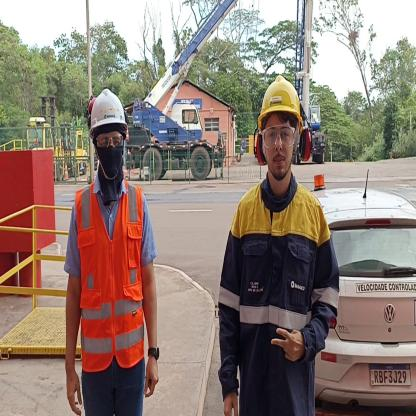Balaclava: (92, 130, 126, 195)
C_eletrica: (221, 178, 338, 398)
Capacete: (256, 71, 304, 119), (87, 88, 129, 128)
colete: (74, 188, 148, 369)
